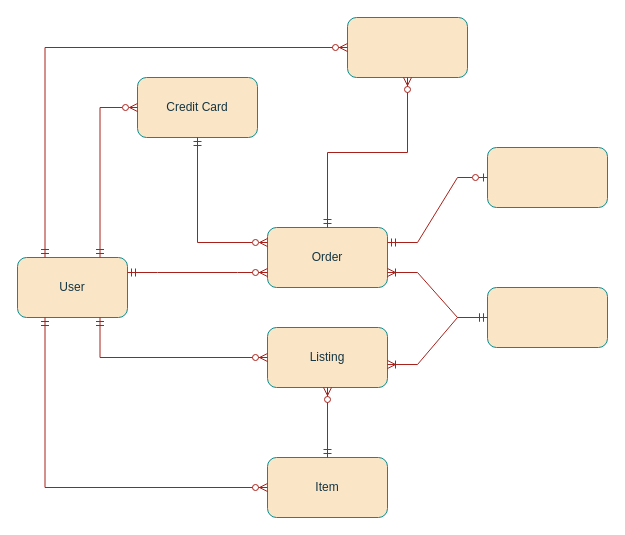
Some shapes in this 625 by 535 pixel diagram are drawn without their labels. Here are the shapes that lost their labels. From the top down, the box of each, then its label:
(346, 16, 468, 78): Customer Service Request
(486, 146, 608, 208): Order Shipment
(486, 286, 608, 348): Order Item
